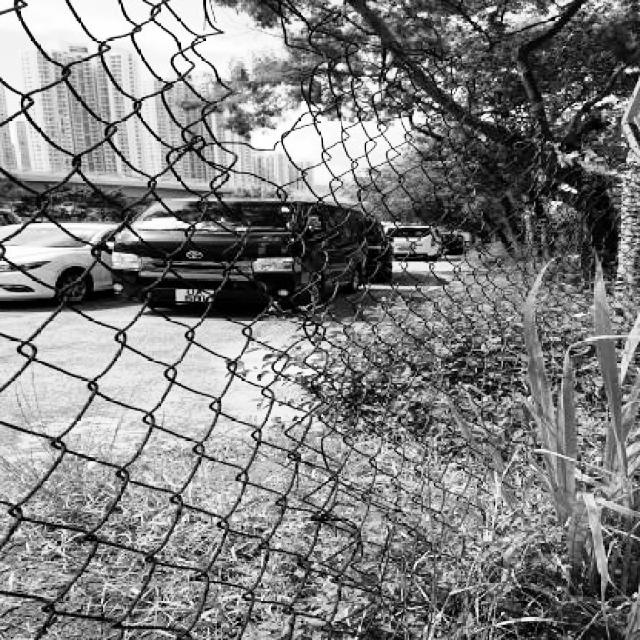anomaly-fence: (159, 0, 498, 194)
fences: (12, 224, 639, 640)
